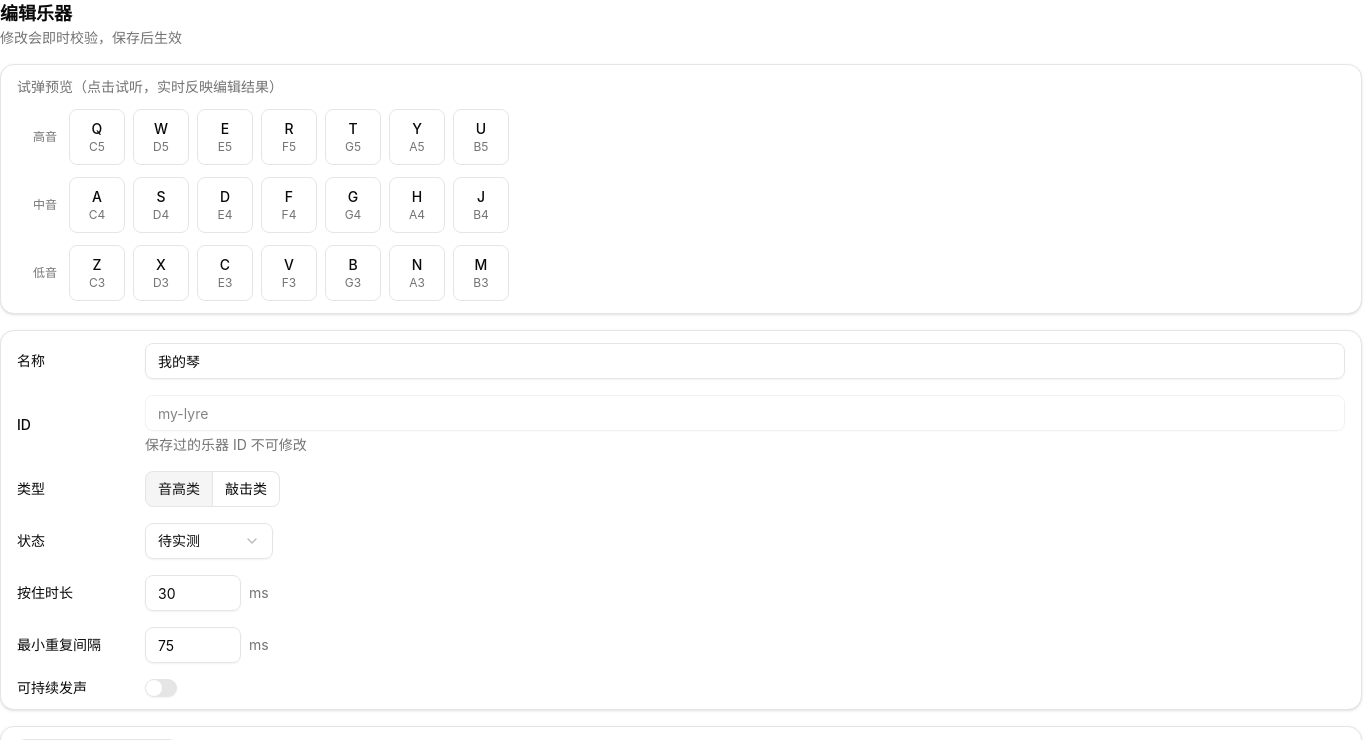
Test: InstrumentEditor › 切换类型需要确认并清空所有键，出现鼓映射表
What coordinates should you click on to do the following:
click the radio button labelled "敲击类"
I would click on:
 (246, 489)
Its box is top-left (213, 471), bottom-right (280, 507).
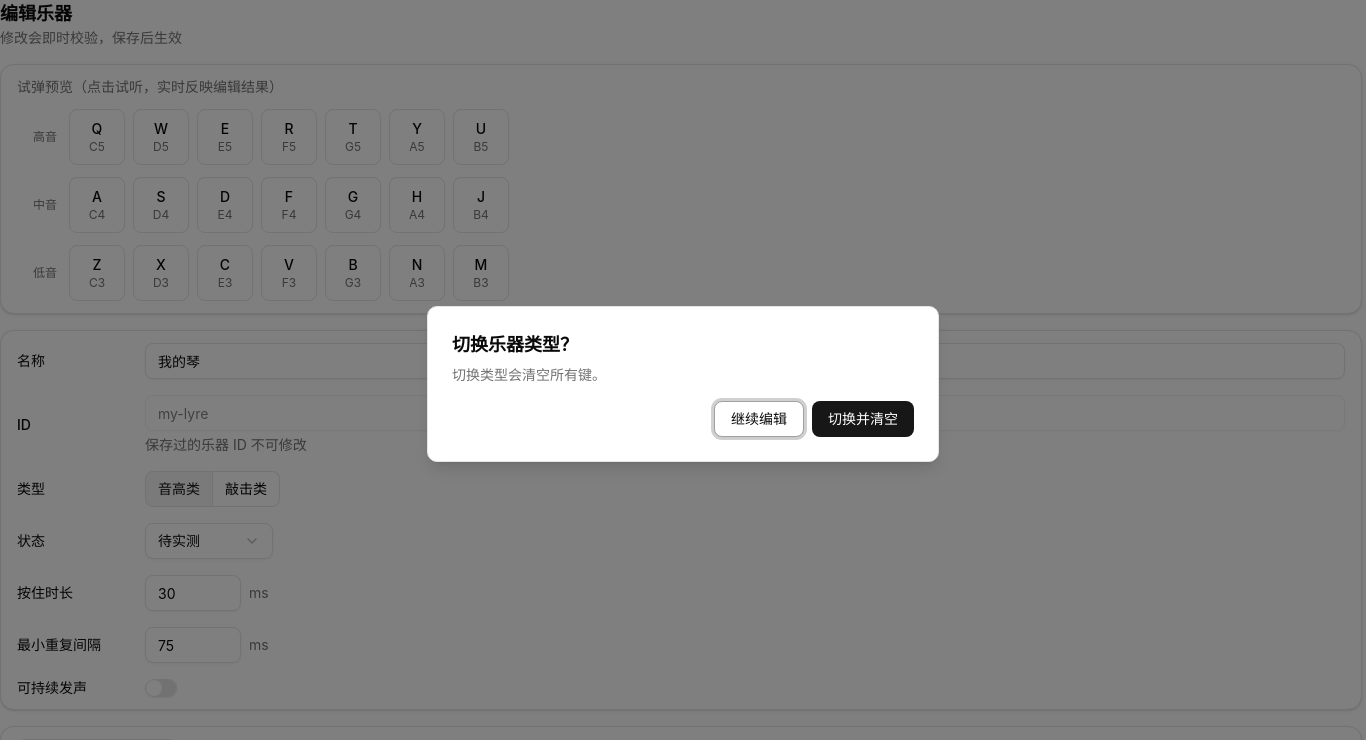
Now the dialog "切换乐器类型？" is shown, box top-left (427, 306), bottom-right (939, 462)
What coordinates should you click on to do the following:
click the button "继续编辑"
I would click on:
 (759, 419)
Its box is top-left (714, 401), bottom-right (804, 437).
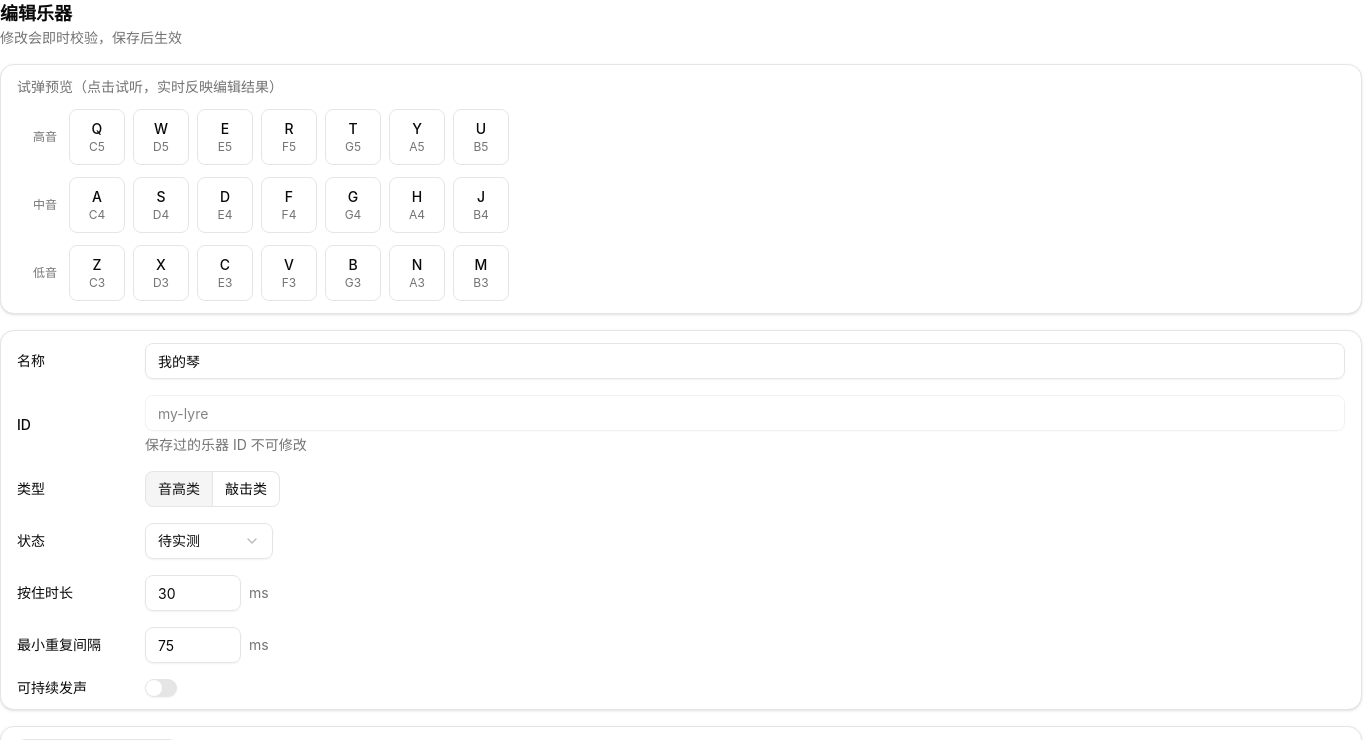
Now the dialog is gone
What coordinates should you click on to do the following:
click the radio button labelled "敲击类"
I would click on:
 (246, 489)
Its box is top-left (213, 471), bottom-right (280, 507).
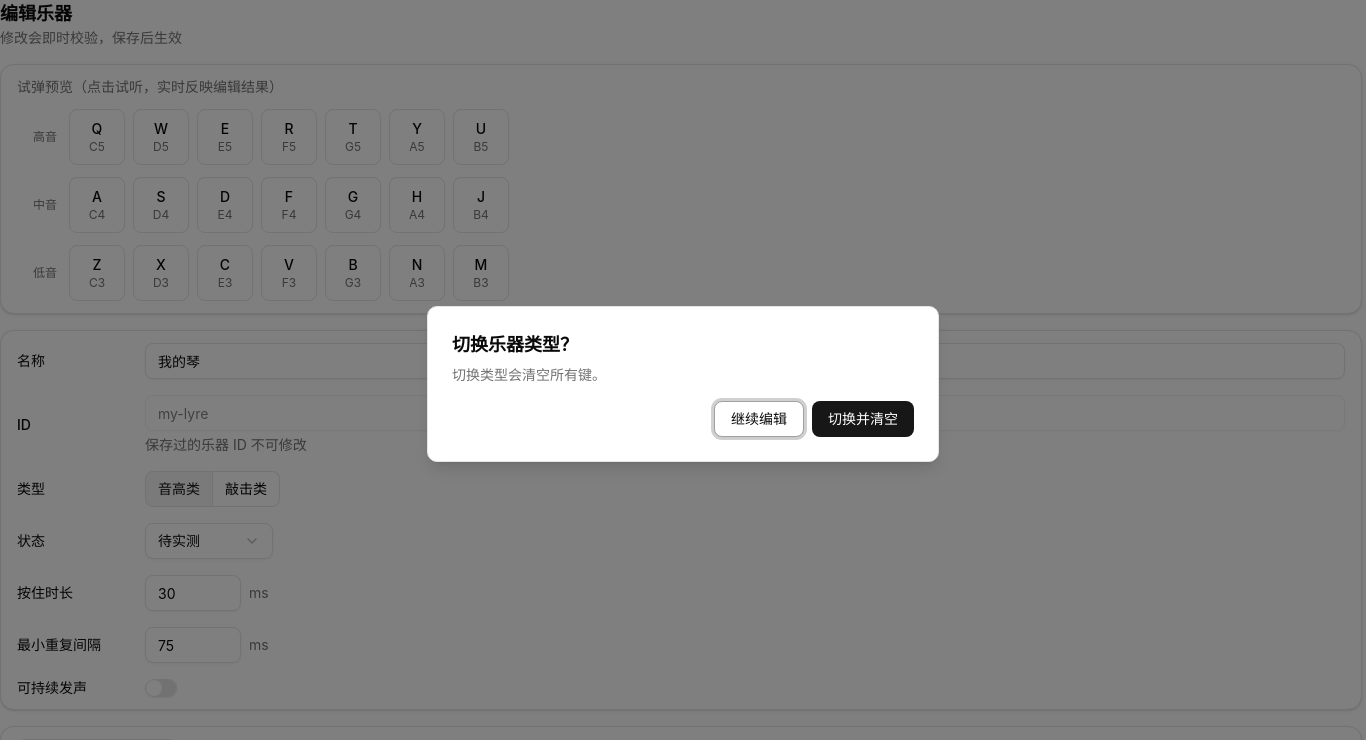
What coordinates should you click on to do the following:
click the button "切换并清空"
I would click on:
 (863, 419)
Its box is top-left (812, 401), bottom-right (914, 437).
(page scrolled)
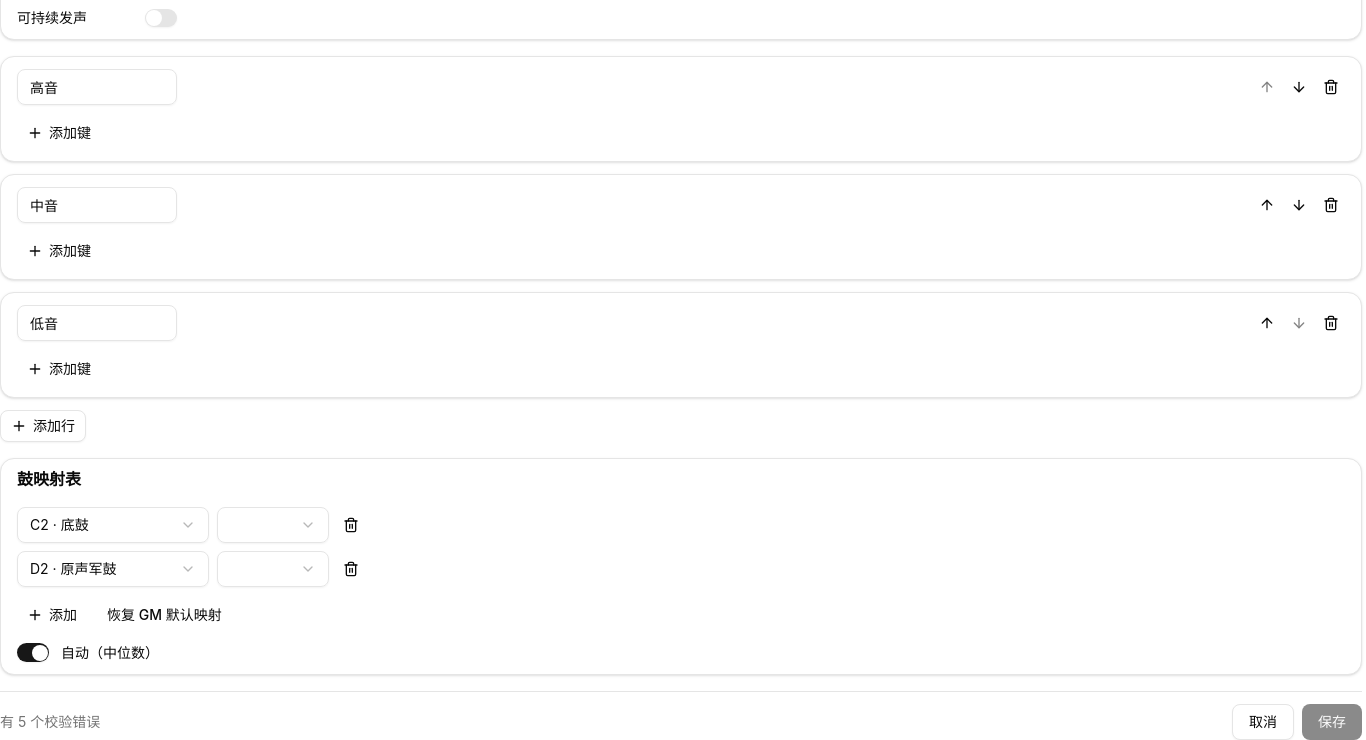
Now the text "鼓映射表" is shown, box top-left (17, 469), bottom-right (81, 489)
Now the dropdown named "映射音符 1" is shown, box top-left (17, 507), bottom-right (209, 543)
